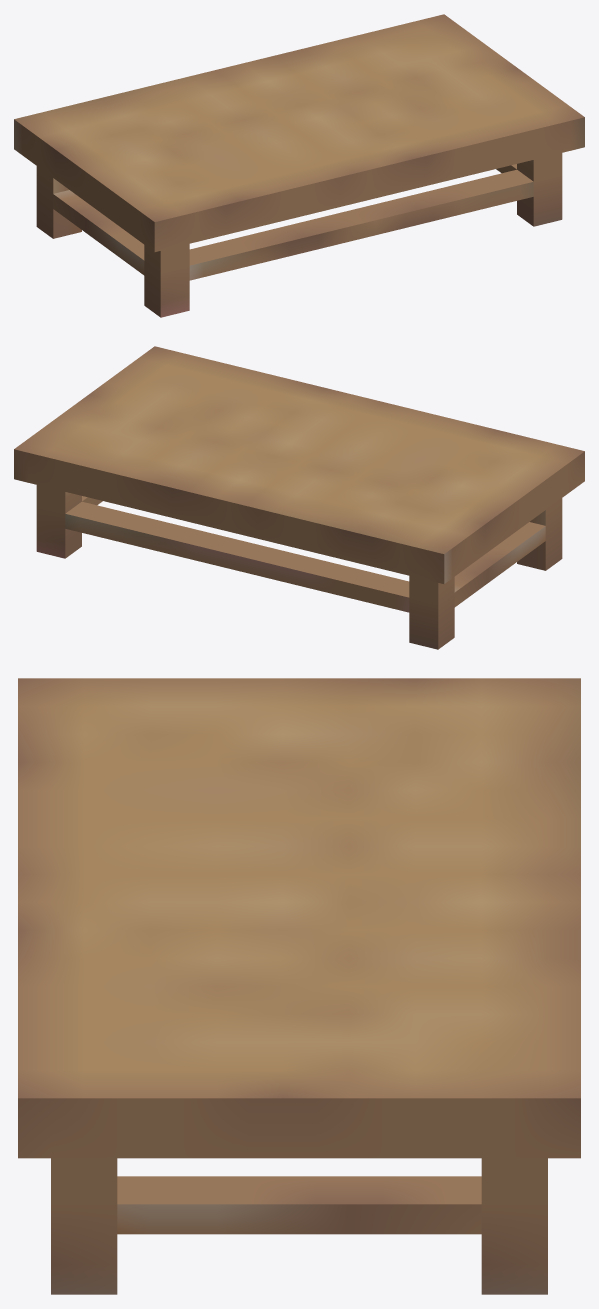
File: CenterTable_00.fbx
3 renders of one model, top to bottom at view 1: azimuth 30°, elevation 25°; view 2: azimuth 150°, elevation 25°; view 3: azimuth 270°, elevation 25°, orthographic. The views are drawn at different scales.
Visible parts, largest first — view 1: CenterTable_00; view 2: CenterTable_00; view 3: CenterTable_00.
Boxes of the visible parts, box(x1,y1,x2,y2) form: CenterTable_00: box(14, 14, 584, 317); CenterTable_00: box(14, 346, 584, 649); CenterTable_00: box(18, 678, 580, 1294).
Size of the model in its own units: 150 by 85 by 35.
1 material, 1 textured.
